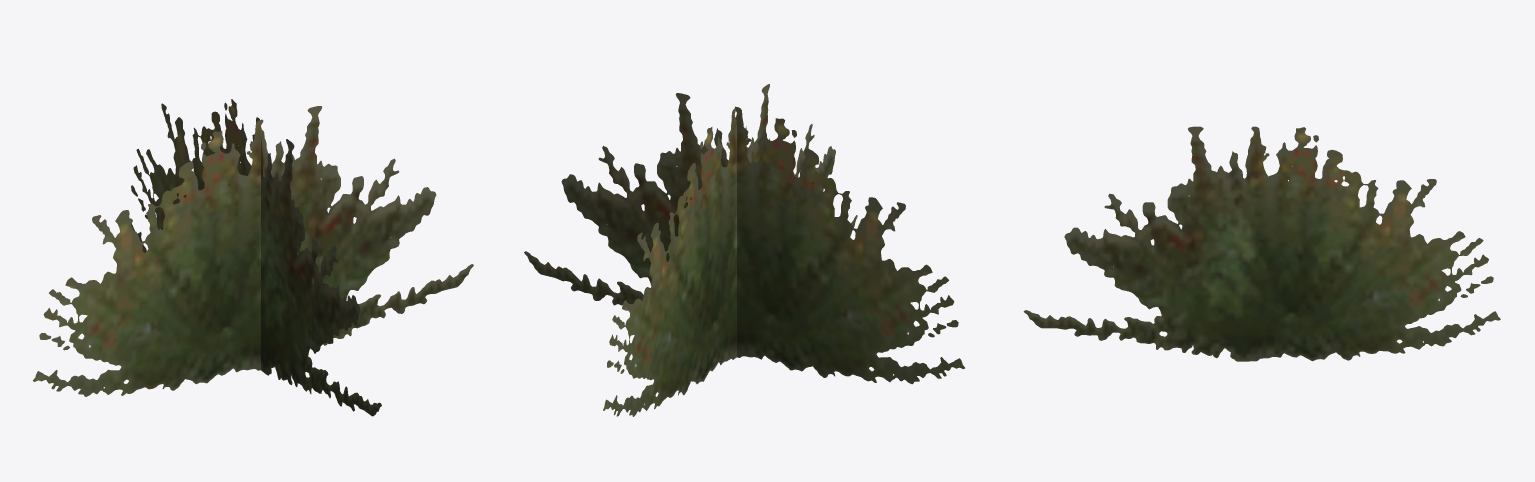
The model's file is shrb_arid_green_flowering_l1.fbx.
The picture shows the model from 3 angles, left to right: view 1: azimuth 30°, elevation 25°; view 2: azimuth 150°, elevation 25°; view 3: azimuth 270°, elevation 25°; orthographic projection. The views are drawn at different scales.
Parts seen in each view (by area): view 1: mesh_node; view 2: mesh_node; view 3: mesh_node.
Part boxes in pixels (bbox=[...]): mesh_node: bbox=[33, 99, 473, 416]; mesh_node: bbox=[524, 84, 964, 416]; mesh_node: bbox=[1023, 126, 1500, 361].
Bounding box in the file's own units: 2.54 × 1.32 × 2.54.
